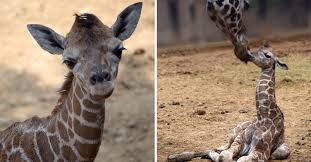Jirafa: (24, 4, 151, 124), (246, 37, 297, 89)
